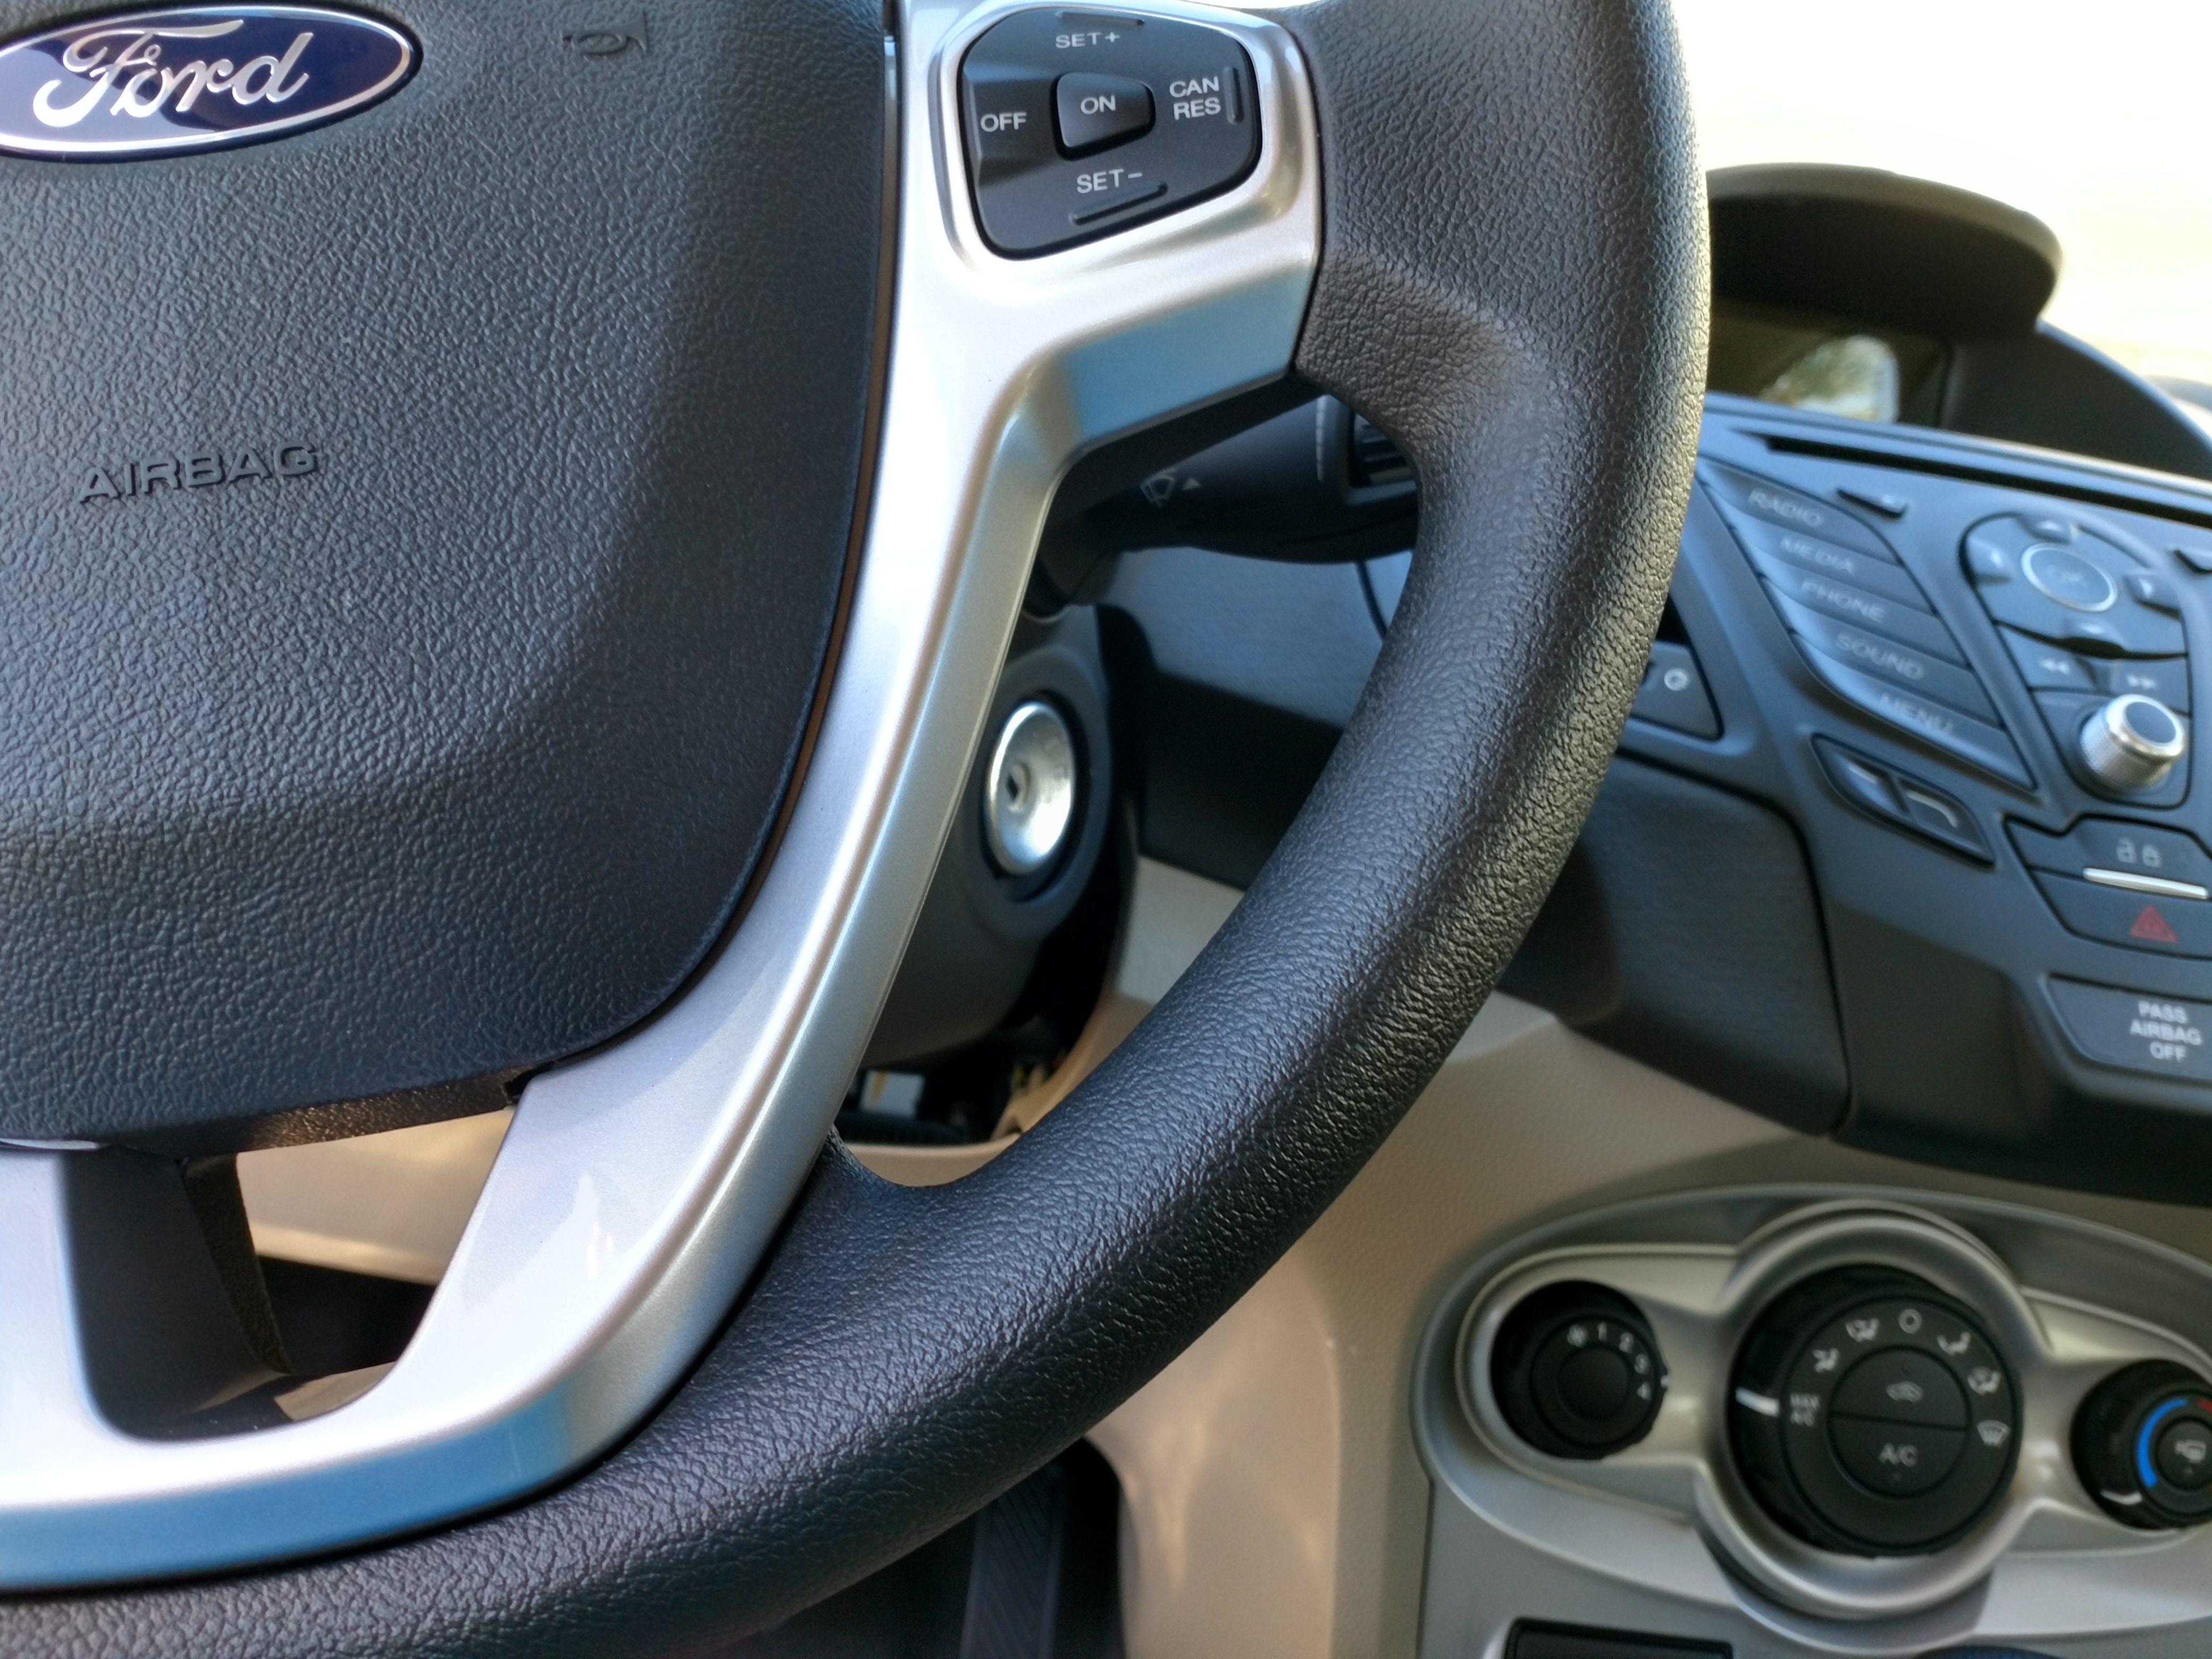Ford: (0, 5, 427, 171)
